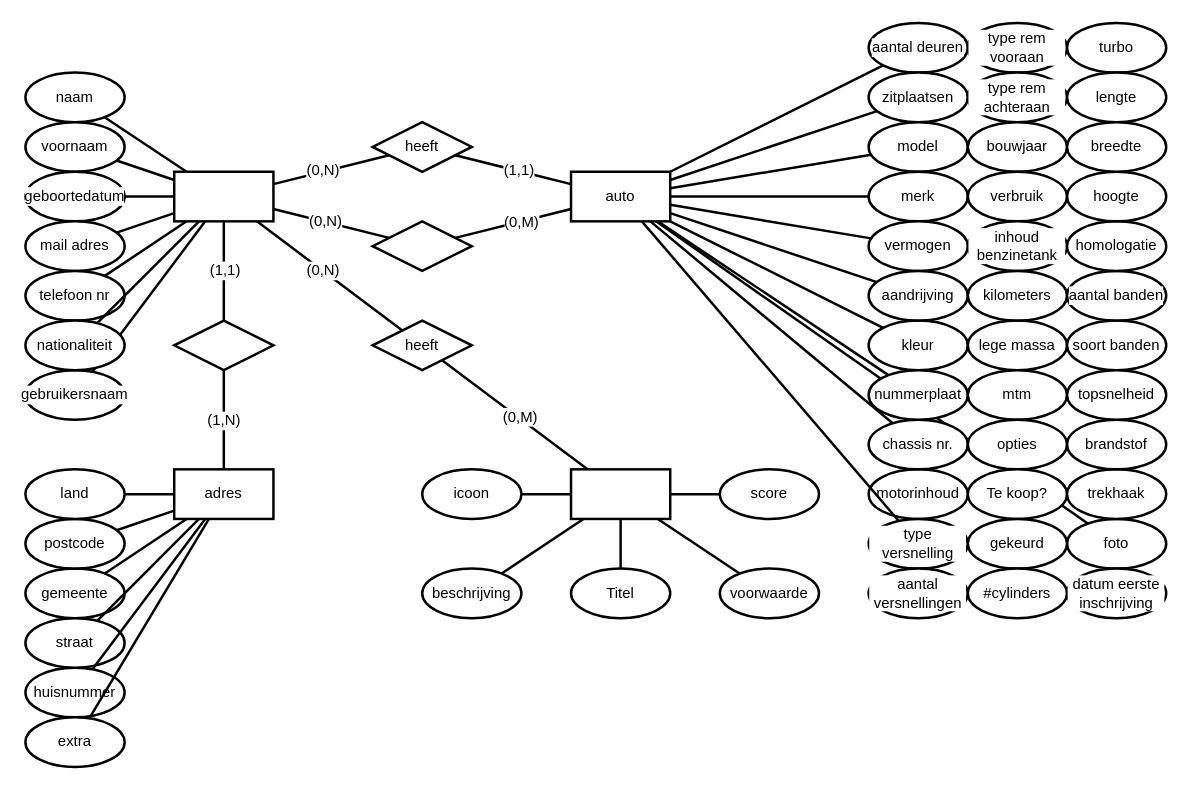
This 1188x789 diagram has some shape labels left out. Here are the shapes that lost their labels. From the top down, the centre of each, then its label:
the point at 223,196: Gebruiker
the point at 421,245: wil
the point at 223,345: woont
the point at 620,493: prestaties
